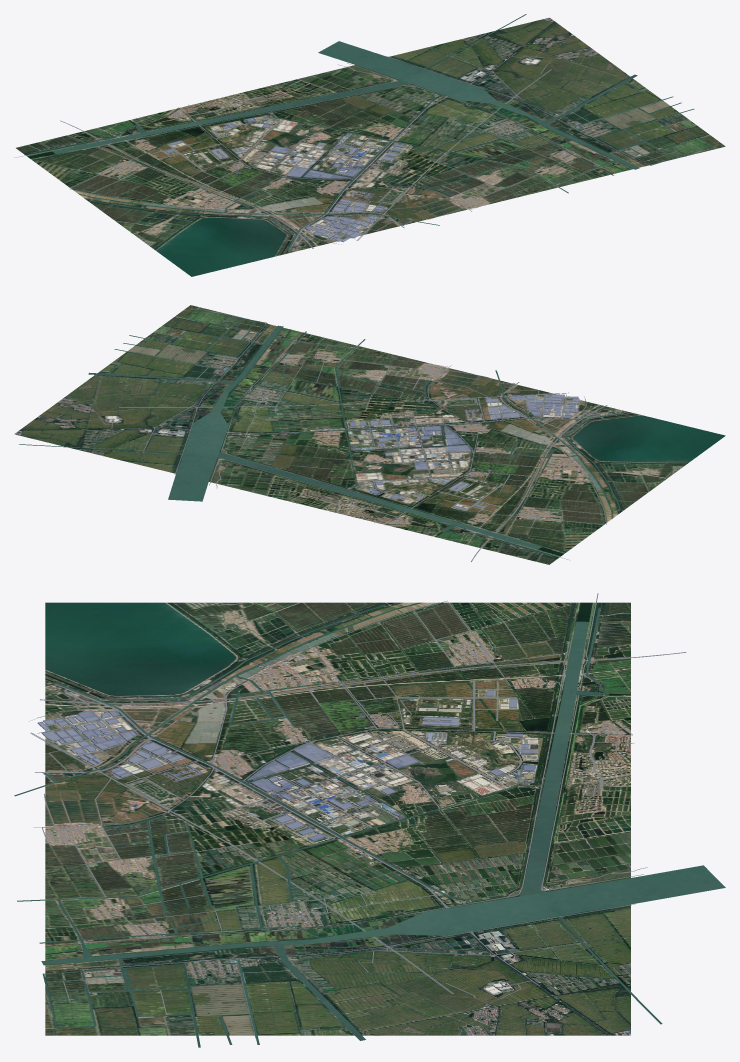
File: house1.glb
3 views of the same model, one above another, from view 1: azimuth 30°, elevation 25°; view 2: azimuth 150°, elevation 25°; view 3: azimuth 270°, elevation 25° (orthographic). The views are drawn at different scales.
Parts seen in each view (by area): view 1: 卫星图, 水路01, 公路01, 周边房子.002; view 2: 卫星图, 水路01, 公路01, 周边房子.002; view 3: 卫星图, 水路01, 公路01, 周边房子.002.
Boxes of the visible parts, x1,y1,x2,y2 form: 卫星图: [16, 17, 725, 276]; 水路01: [31, 14, 713, 250]; 公路01: [14, 52, 677, 250]; 周边房子.002: [165, 55, 448, 242]; 卫星图: [14, 305, 725, 564]; 水路01: [19, 309, 624, 556]; 公路01: [98, 320, 622, 561]; 周边房子.002: [224, 394, 579, 510]; 卫星图: [45, 602, 630, 1035]; 水路01: [14, 604, 725, 1047]; 公路01: [29, 593, 686, 1038]; 周边房子.002: [37, 689, 584, 941].
Bounding box in the file's own units: 17959 × 32.84 × 11894.
Materials: 33 (12 with a texture image).
